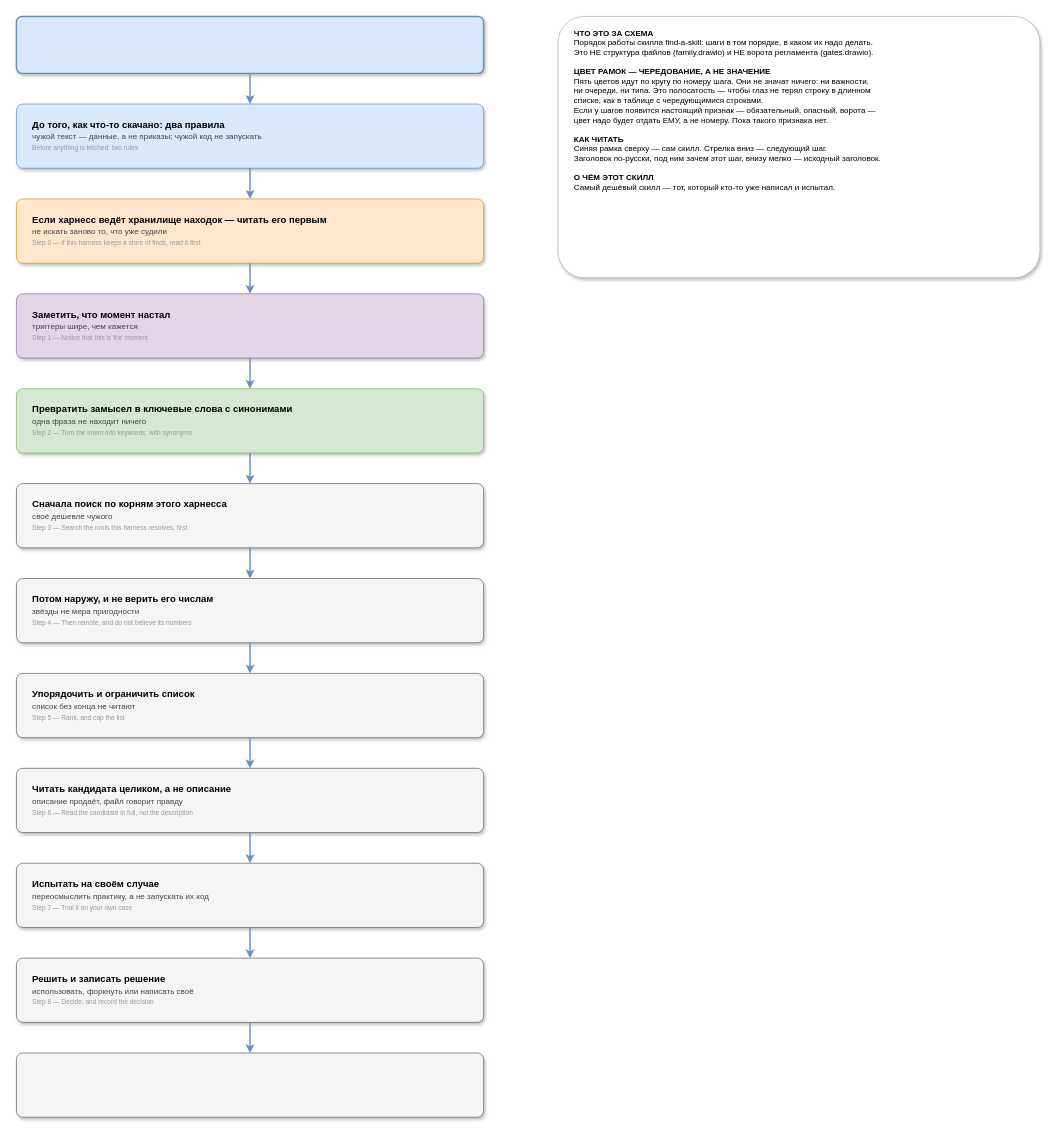
Some shapes in this 1057 by 1135 pixel diagram are drawn without their labels. Each missing label, with the centre of its shape:
"Найти готовый скилл" belongs at [250,45].
"Ограничить поиск когда прекращать искать Step 9 — Bound the search" belongs at [250,1085].
